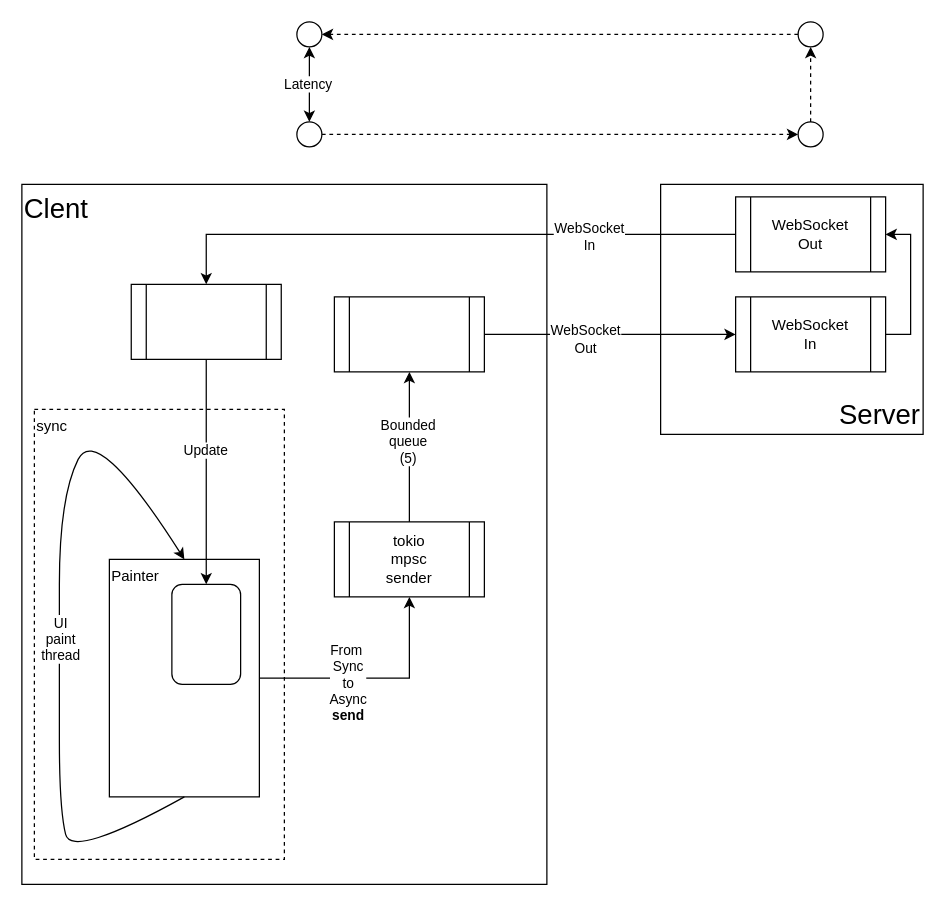
This 945x906 diagram has some shape labels left out. The centre of each missing label's shape, as x and y in pixels:
"Draw points list (shared)" goes at point (206, 633).
"tokio mpsc receiver" goes at point (408, 334).
"WebSocket receiver" goes at point (205, 321).
